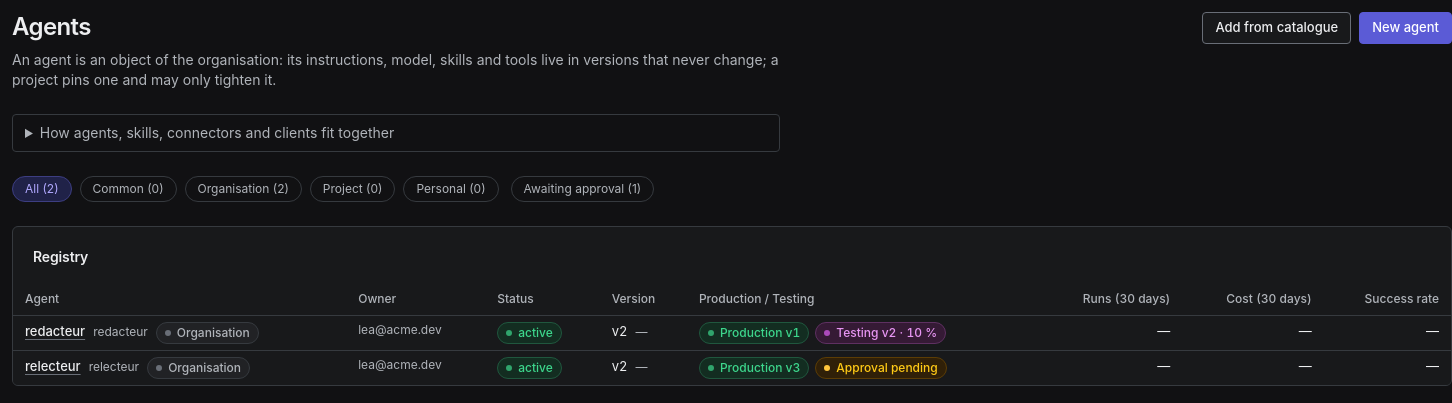
it: the agents' channels (S40-02c) › shows production and testing per agent, and filters the agents awaiting approval
Expected: the row with test id "agent-redacteur" shows "Production v1", [720,325,800,340]
Expected: the row with test id "agent-redacteur" shows "Testing v2 · 10 %", [836,325,937,340]
Step 1. Click the button with test id "awaiting-chip" → [582, 189], box [511,176,654,202]
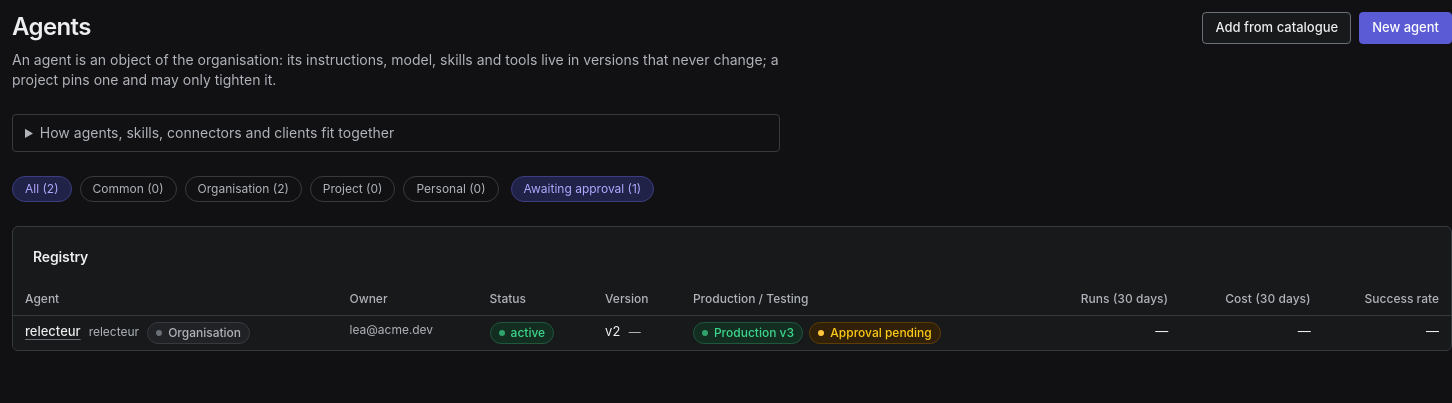
Expected: the row with test id "agent-relecteur" is shown, [13,316,1451,350]
Expected: the row with test id "agent-redacteur" is gone
